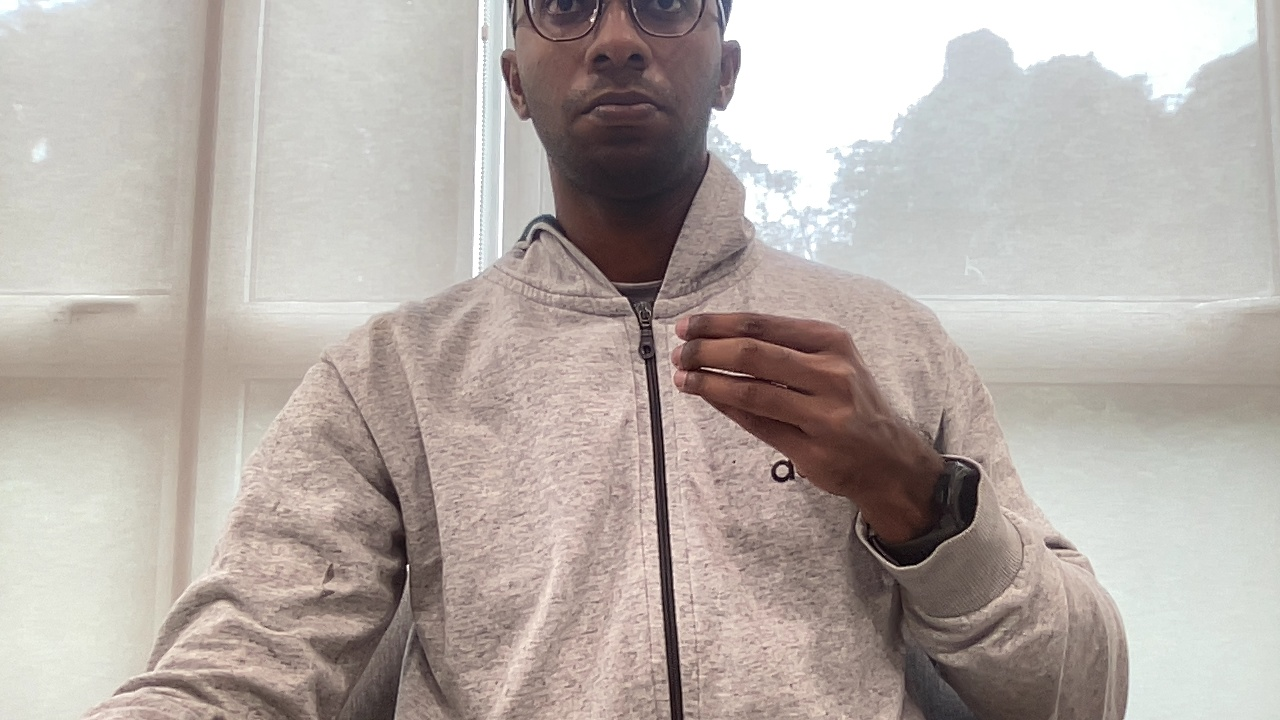drink: (666, 308, 919, 504)
